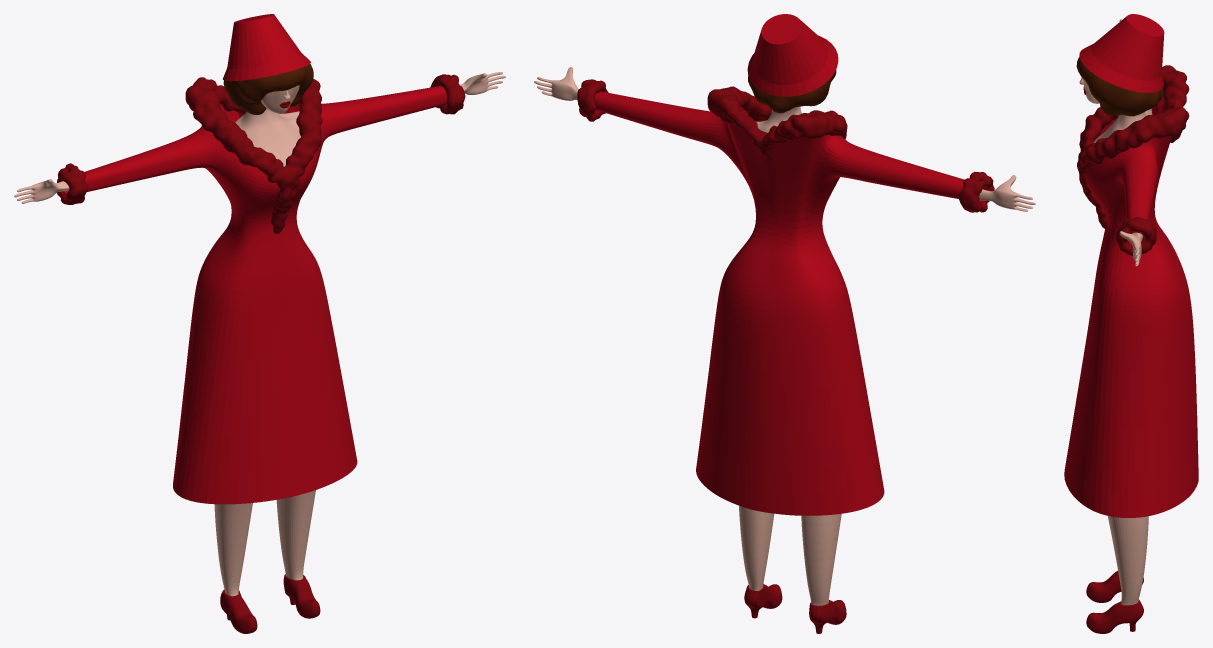
The model's file is queen.fbx.
The picture shows the model from 3 angles, left to right: view 1: azimuth 30°, elevation 25°; view 2: azimuth 150°, elevation 25°; view 3: azimuth 270°, elevation 25°; orthographic projection. The views are drawn at different scales.
Visible parts, largest first — view 1: coat, body, upper fur, hat.001, hair, left shoe, right shoe, right fur, left fur; view 2: coat, body, hat.001, upper fur, hair, right fur, right shoe, left shoe, left fur; view 3: coat, upper fur, hat.001, body, hair, left shoe, left fur, right shoe.
Part boxes in pixels (left/top/right/bottom): coat: left=61, top=86, right=446, bottom=504; body: left=14, top=72, right=505, bottom=596; upper fur: left=185, top=77, right=322, bottom=233; hat.001: left=223, top=14, right=310, bottom=81; hair: left=223, top=64, right=313, bottom=114; left shoe: left=283, top=574, right=320, bottom=618; right shoe: left=220, top=589, right=257, bottom=633; right fur: left=57, top=163, right=88, bottom=204; left fur: left=430, top=74, right=465, bottom=114; coat: left=594, top=91, right=987, bottom=515; body: left=534, top=67, right=1035, bottom=605; hat.001: left=747, top=14, right=838, bottom=96; upper fur: left=707, top=86, right=847, bottom=157; hair: left=748, top=69, right=836, bottom=113; right fur: left=958, top=171, right=994, bottom=212; right shoe: left=809, top=600, right=846, bottom=633; left shoe: left=744, top=584, right=782, bottom=618; left fur: left=577, top=79, right=608, bottom=121; coat: left=1064, top=93, right=1198, bottom=517; upper fur: left=1077, top=65, right=1189, bottom=228; hat.001: left=1079, top=14, right=1164, bottom=92; body: left=1082, top=19, right=1152, bottom=605; hair: left=1076, top=57, right=1163, bottom=116; left shoe: left=1086, top=600, right=1143, bottom=633; left fur: left=1116, top=217, right=1156, bottom=255; right shoe: left=1086, top=570, right=1143, bottom=602.
Bounding box in the file's own units: 135 × 157 × 32.05.
